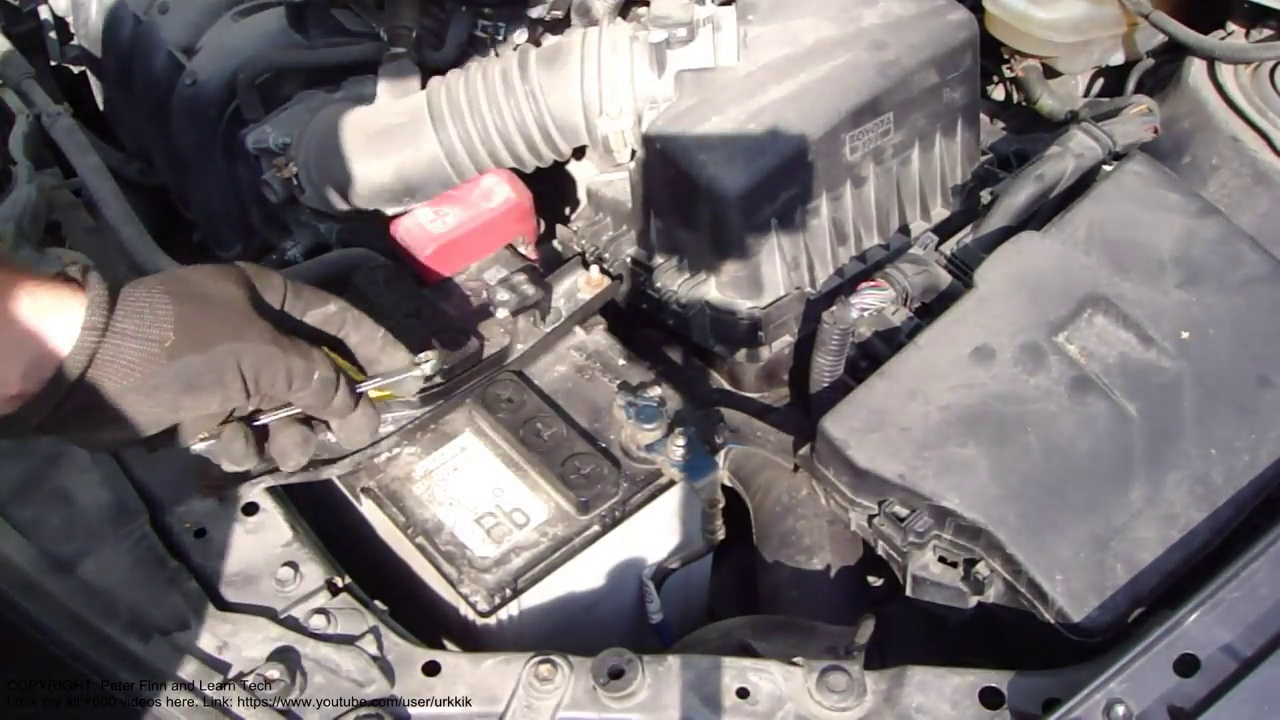battery: (240, 175, 725, 594)
neg_connected: (590, 370, 729, 504)
pos_connected: (374, 173, 567, 304)
